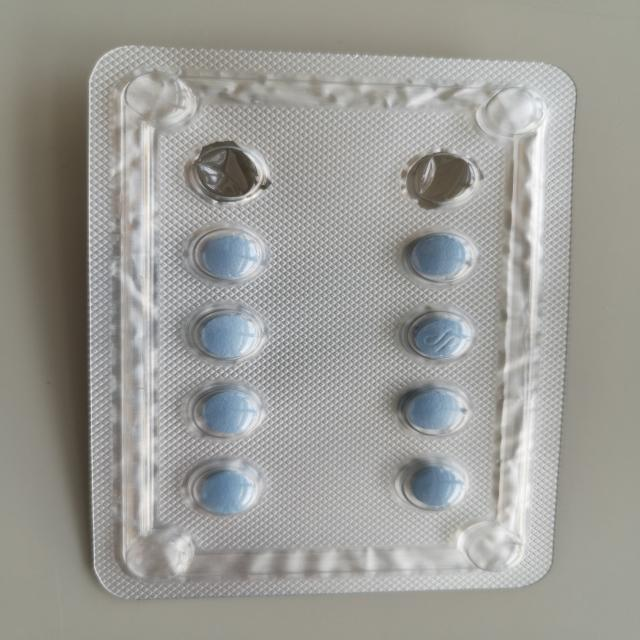Empty: (385, 140, 489, 216), (180, 134, 276, 209)
Pill: (381, 299, 504, 374), (383, 225, 507, 293), (178, 452, 294, 524), (382, 375, 488, 448), (181, 218, 286, 291), (182, 298, 286, 369), (381, 452, 487, 519), (183, 381, 277, 450)
